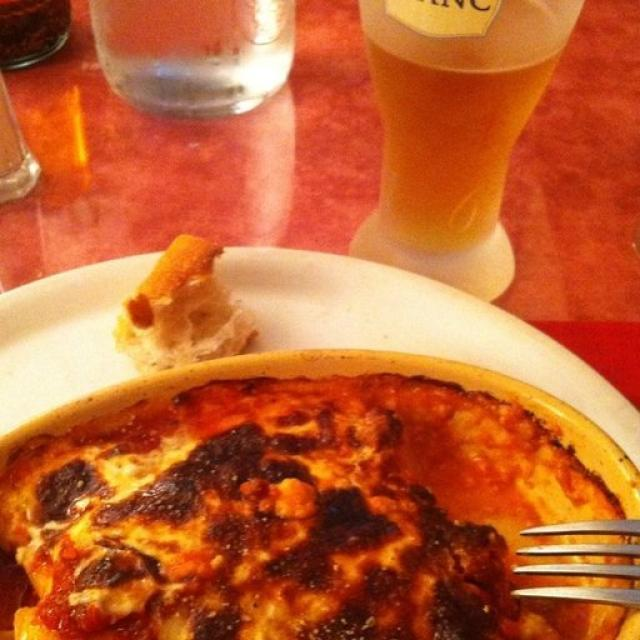Lasagna: (46, 436, 504, 640)
